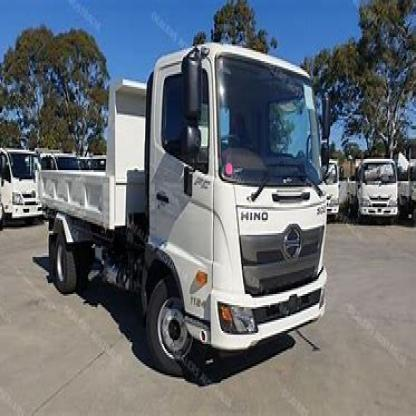dump_truck: (39, 24, 342, 374)
